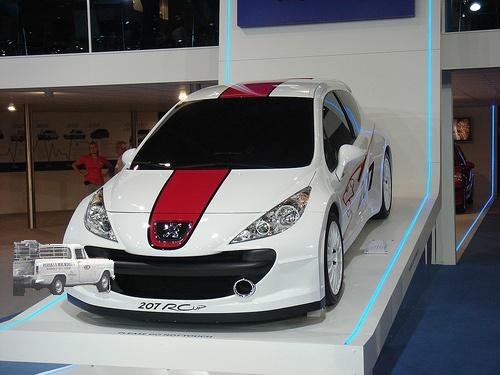tampered: (14, 241, 115, 296)
